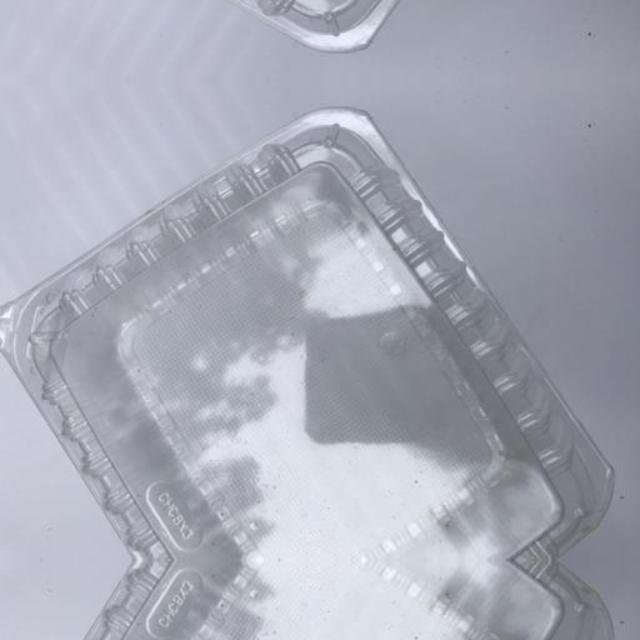Plastic: (0, 114, 640, 560), (0, 560, 640, 640), (0, 0, 640, 46)
